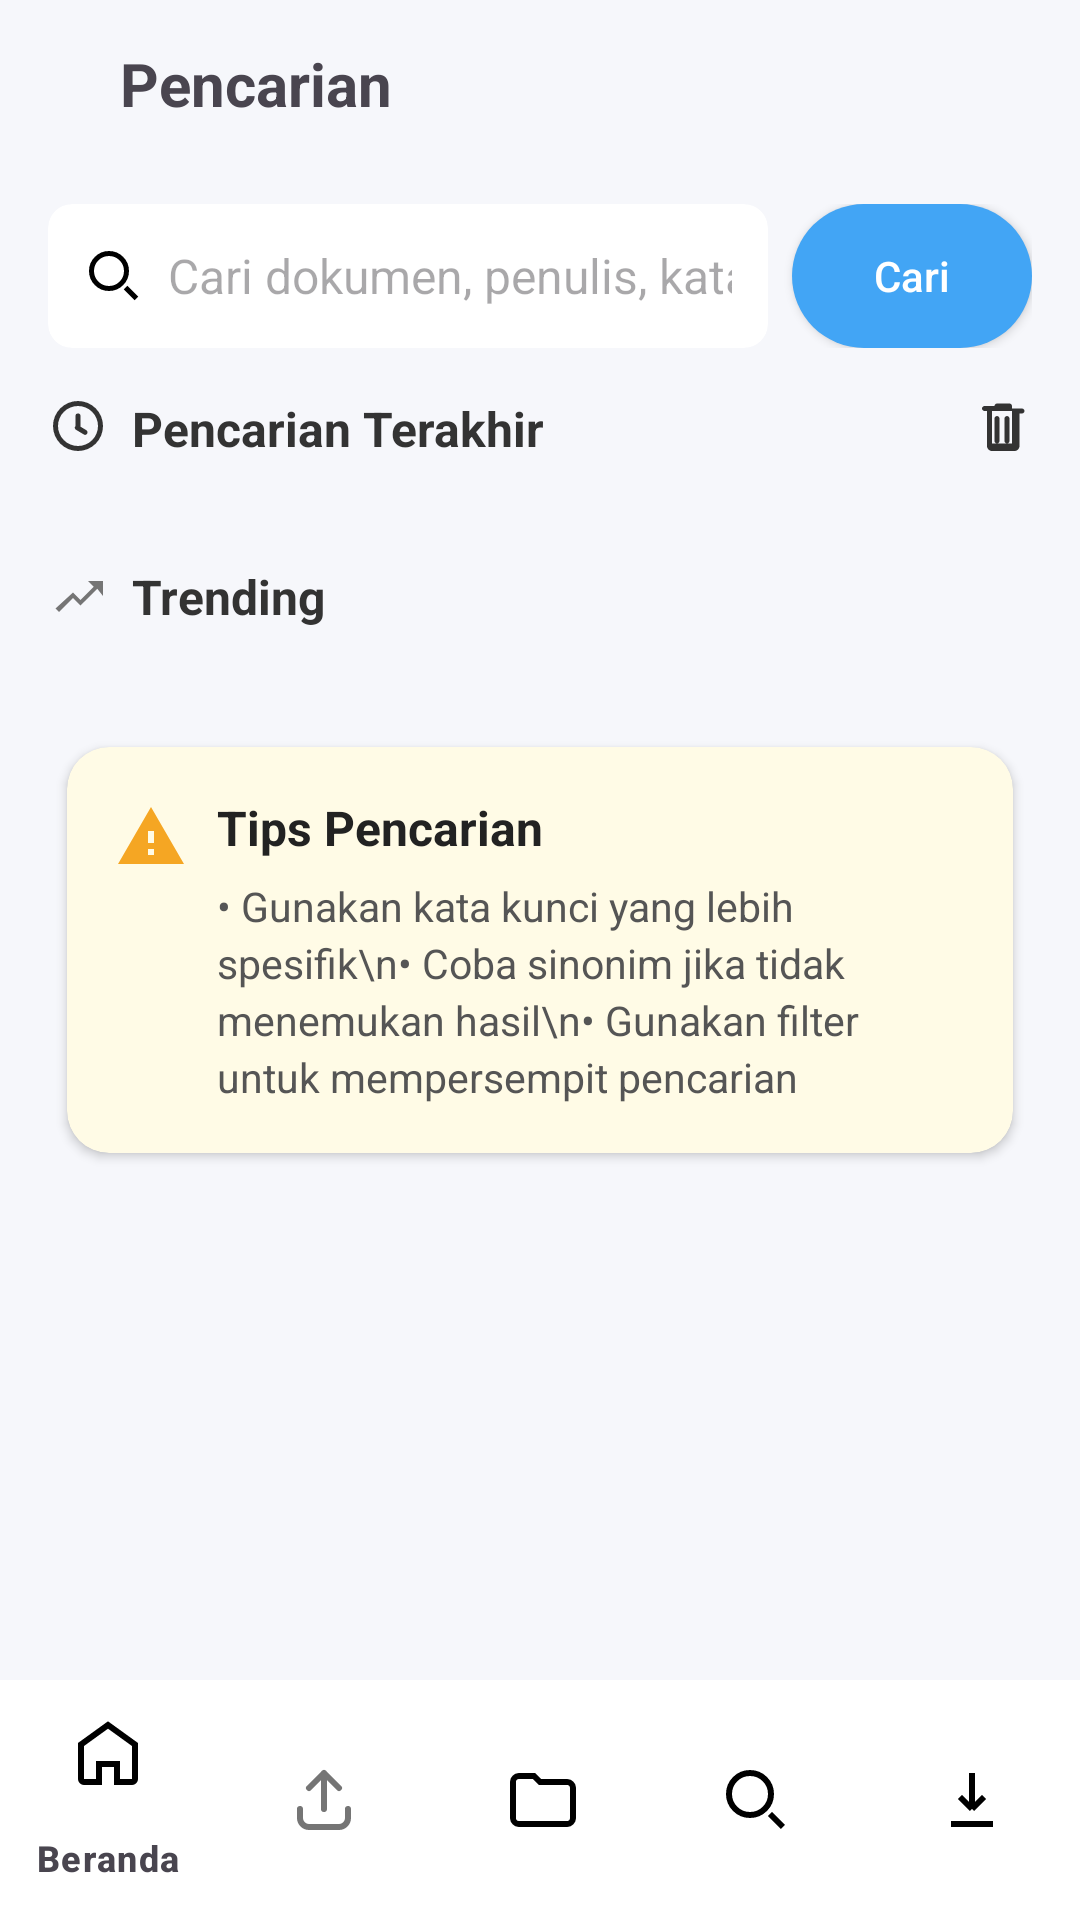

Screen size 1080px x 1920px. Icon name, then its center in pixels as [x,y]:
clock: [78,426]
delete: [1003,427]
warning: [151,835]
